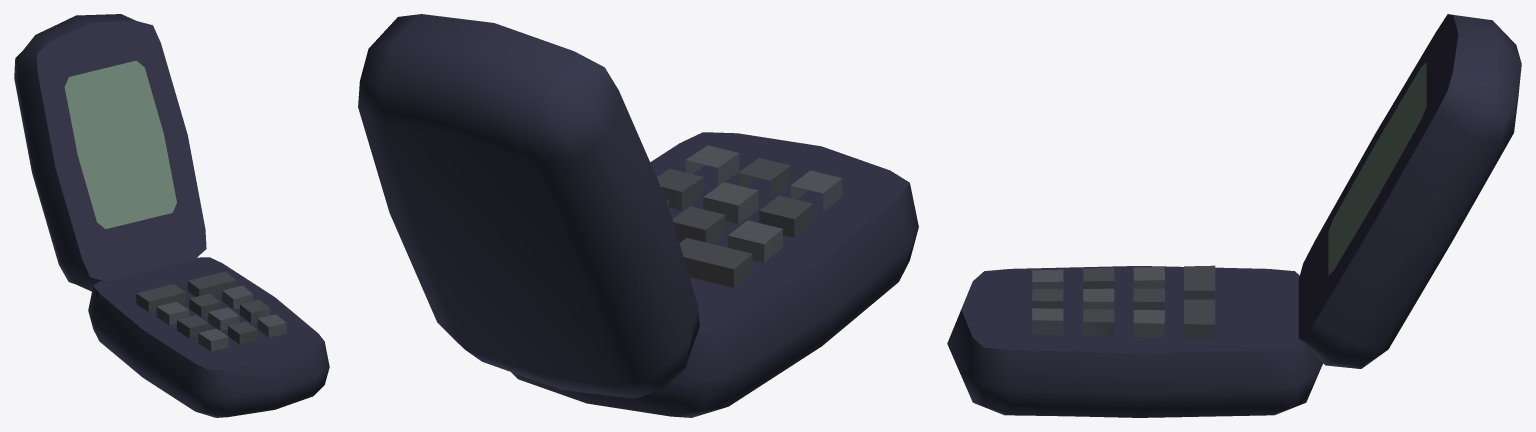
File: Item_FlipPhone_Mesh.fbx
3 renders of one model, left to right at view 1: azimuth 30°, elevation 25°; view 2: azimuth 150°, elevation 25°; view 3: azimuth 270°, elevation 25°, orthographic. The views are drawn at different scales.
Parts seen in each view (by area): view 1: Item_FlipPhone_Mesh; view 2: Item_FlipPhone_Mesh; view 3: Item_FlipPhone_Mesh.
Boxes of the visible parts, <box> form: Item_FlipPhone_Mesh: <box>14,14,329,417</box>; Item_FlipPhone_Mesh: <box>358,14,918,417</box>; Item_FlipPhone_Mesh: <box>947,14,1521,417</box>.
Size of the model in its own units: 14.24 by 23.88 by 35.21.
